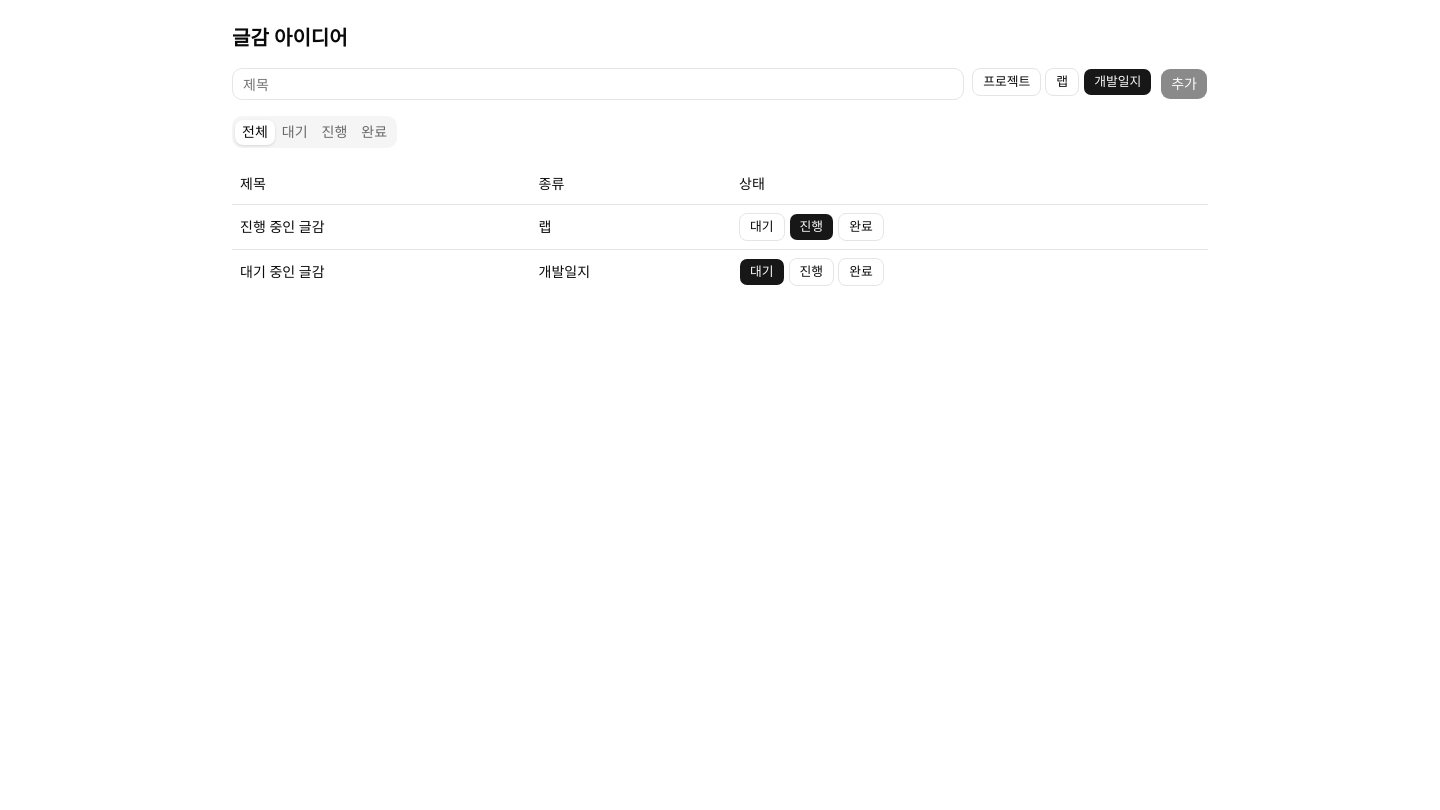
Test case: IdeasPage 수정 › 정상 › 상세 모달의 "수정"을 누르면 상세가 닫히고 현재 값이 채워진 수정 다이얼로그가 열려야 한다
This screenshot has width=1440, height=810.
Click the text "진행 중인 글감" at (282, 226), box left=232, top=204, right=531, bottom=249
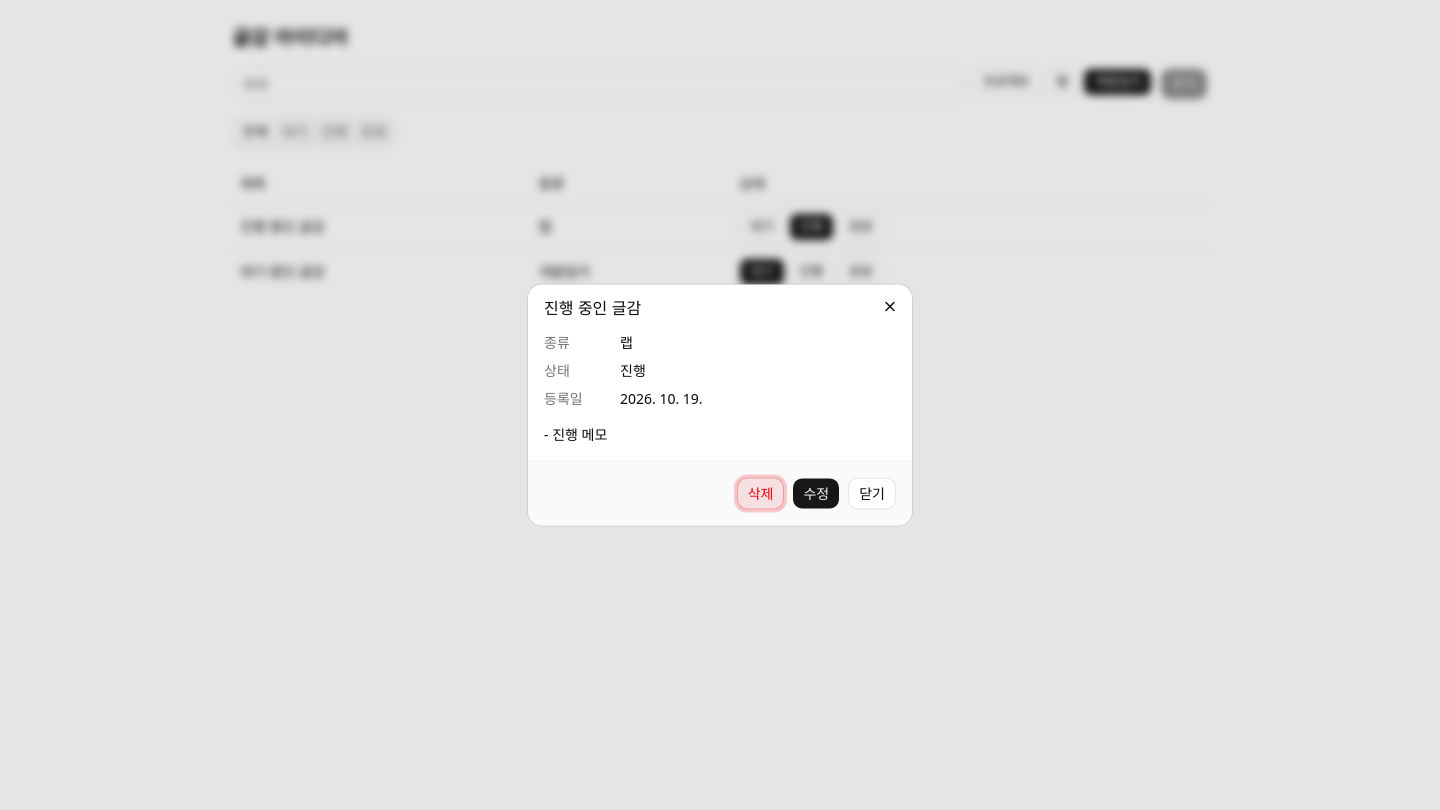
Click the button "수정" at (816, 494), box left=792, top=478, right=840, bottom=510
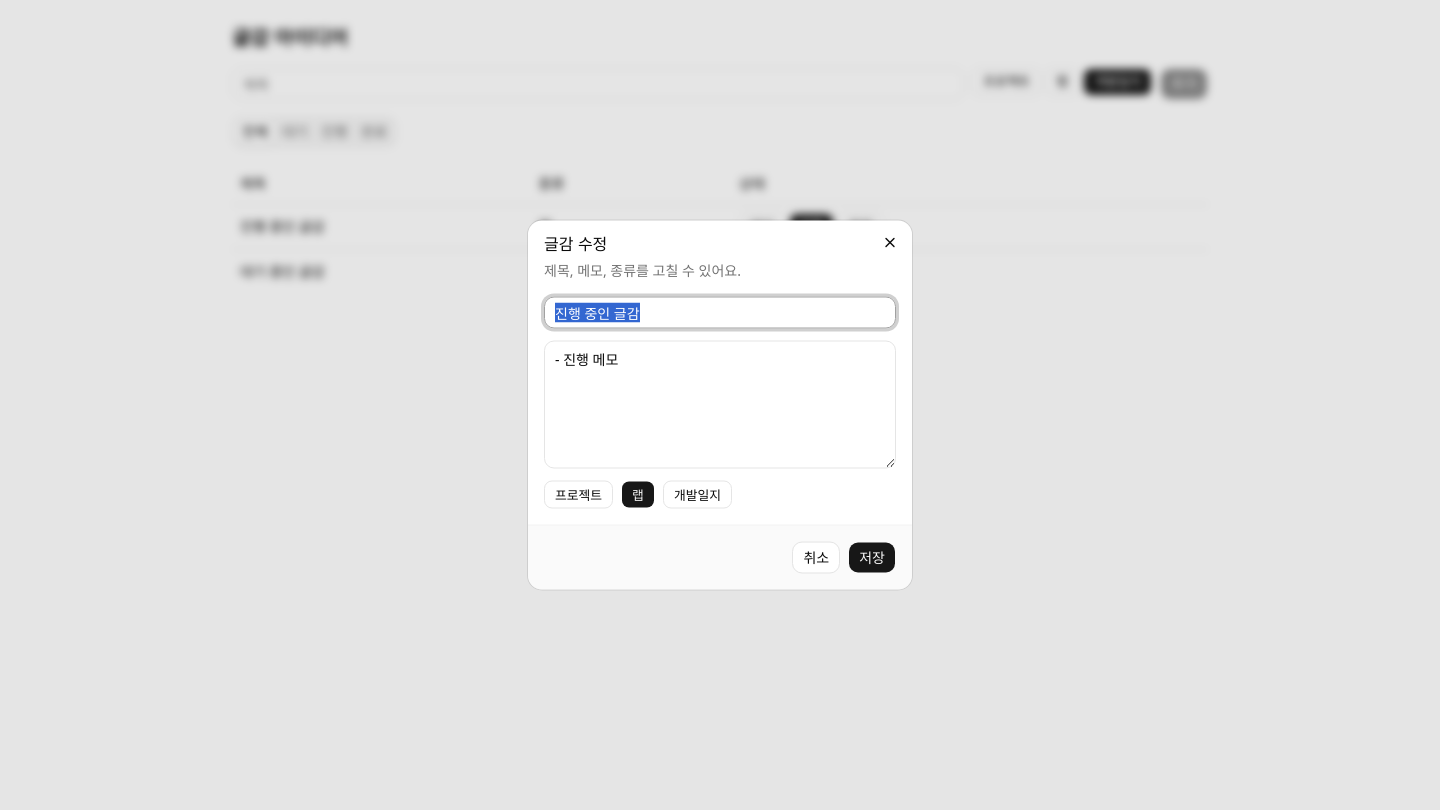
Expected: the button "저장" is shown, left=848, top=542, right=896, bottom=574
Expected: the field with placeholder "제목" holds "진행 중인 글감", left=544, top=296, right=896, bottom=328
Expected: the text box with placeholder "메모" holds "- 진행 메모", left=544, top=340, right=896, bottom=468
